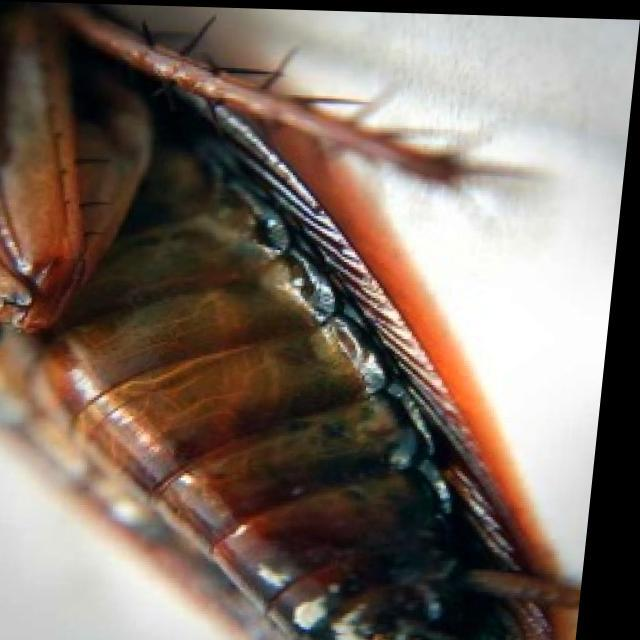cockroach: (3, 7, 570, 637)
